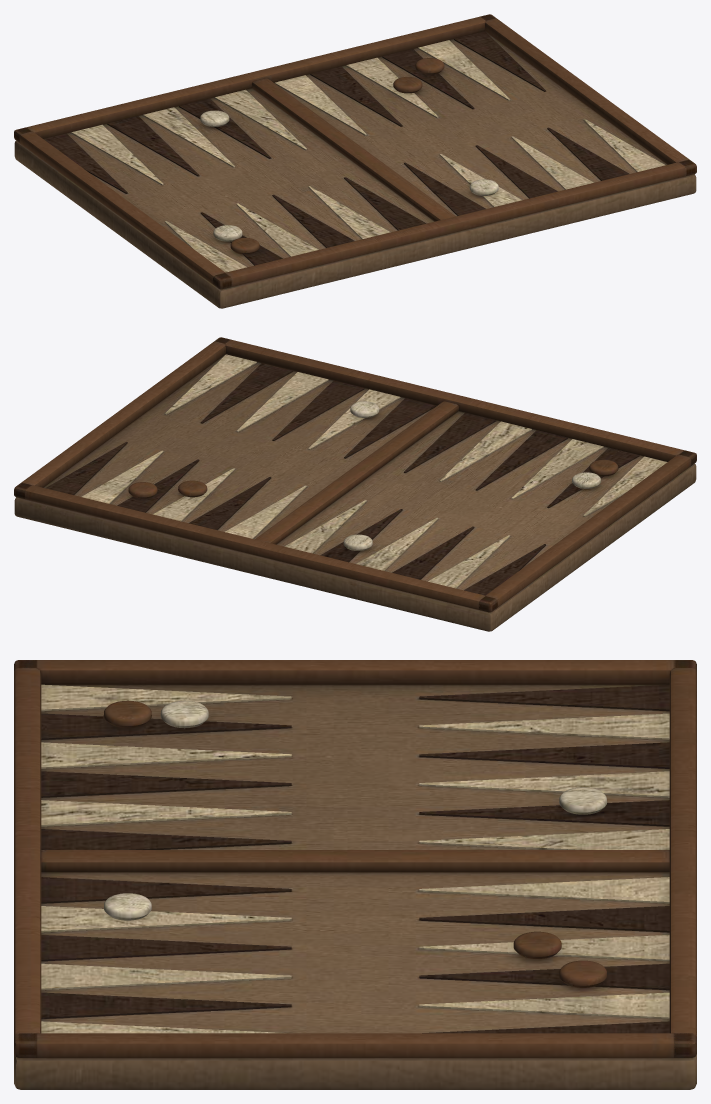
Rendered from tabula_board.glb.
The picture shows the model from 3 angles, top to bottom: view 1: azimuth 30°, elevation 25°; view 2: azimuth 150°, elevation 25°; view 3: azimuth 270°, elevation 25°; orthographic projection. The views are drawn at different scales.
Visible parts, largest first — view 1: tabula_board; view 2: tabula_board; view 3: tabula_board.
Part boxes in pixels (<box>): tabula_board: <box>14,14,696,308</box>; tabula_board: <box>14,337,696,631</box>; tabula_board: <box>14,660,696,1089</box>.
Size of the model in its own units: 0.4 by 0.024 by 0.3.
1 material, 1 textured.
